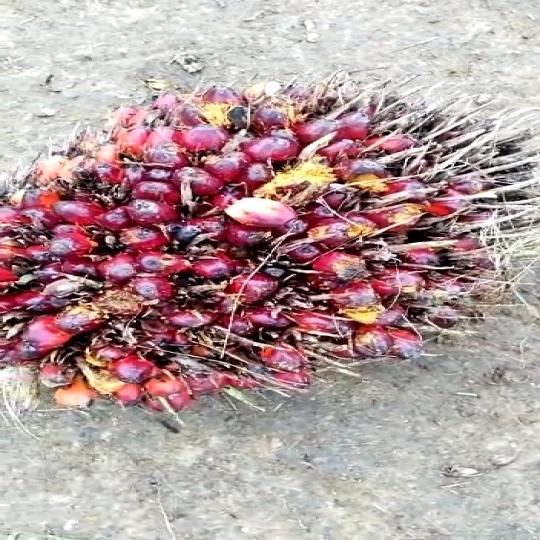masak: (0, 66, 540, 465)
